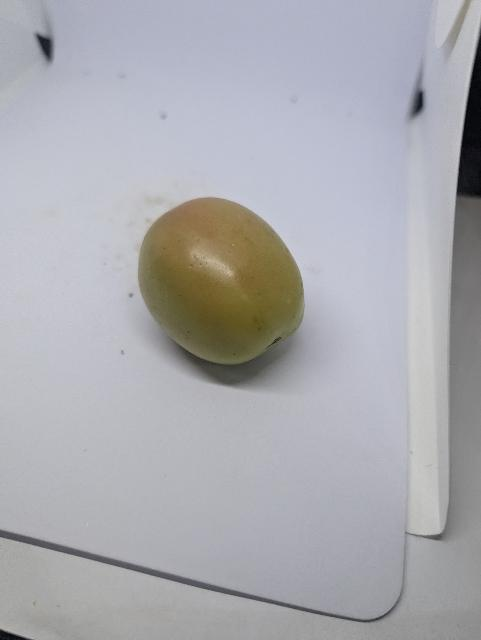breaker: (133, 194, 311, 369)
